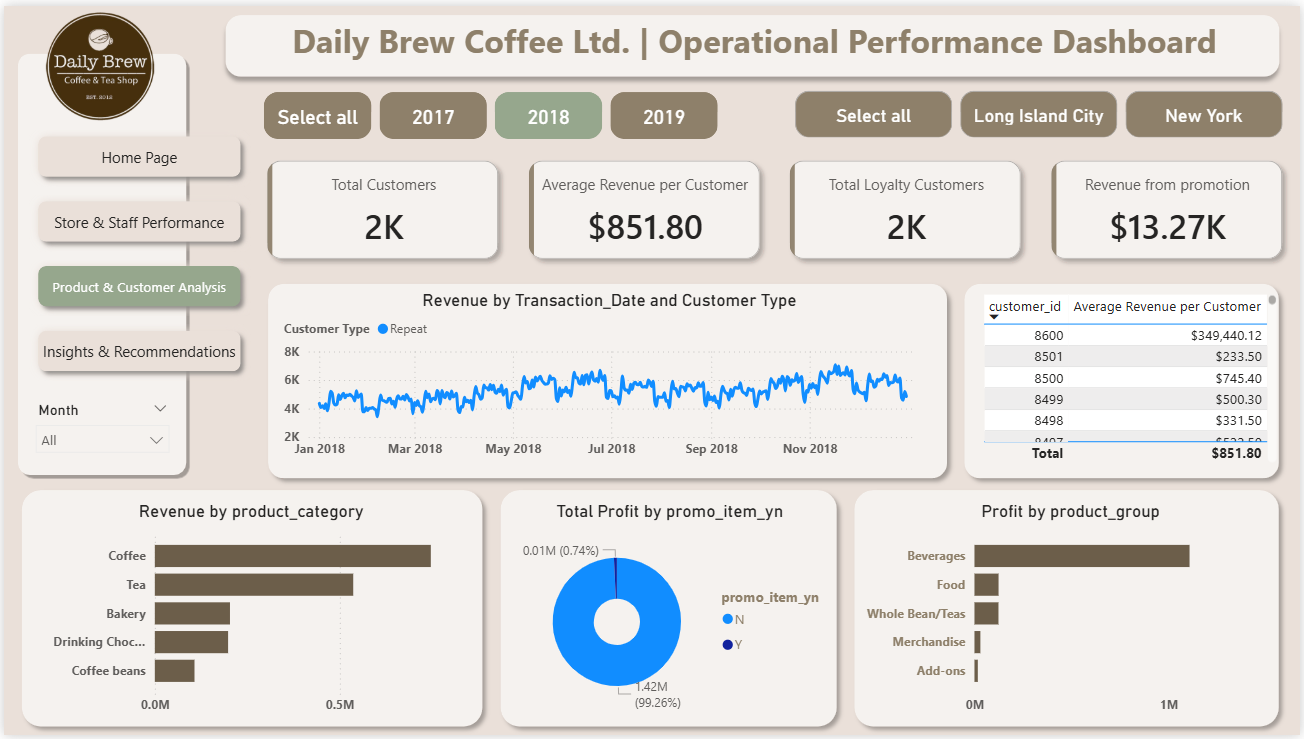

What the dashboard file says about the page in this screenshot:
{"tool":"powerbi","page":{"name":"Product & Customer Analysis ","canvas":[1280,720],"ordinal":2},"visuals":[{"type":"shape","box":[831.4,468.6,437.1,251.4],"z":0},{"type":"shape","box":[8.6,468.6,472.9,251.4],"z":1000},{"type":"shape","box":[251.4,265.7,688.6,210],"z":2000},{"type":"advancedSlicerVisual","fields":{"Values":["Store.store_city"]},"box":[776.2,78.8,492.5,56.2],"z":3000},{"type":"advancedSlicerVisual","fields":{"Values":["Calender.Year_ID"]},"box":[251.2,80,461.2,56.2],"z":4000},{"type":"shape","box":[210,0,1058.8,78.8],"z":5000},{"type":"shape","box":[940,265.7,328.6,210],"z":6000},{"type":"slicer","fields":{"Values":["Calender.Month"]},"box":[20.8,384.6,152.3,71.5],"z":7000},{"type":"textbox","box":[255.7,7.1,971.4,55.7],"z":8000},{"type":"cardVisual","fields":{"Data":["_masure.Total Customers","_masure.Average Revenue per Customer","_masure.Total Loyalty Customers","_masure.Revenue from promotion"]},"box":[242.9,135.7,1037.1,131.4],"z":9000},{"type":"clusteredBarChart","title":" Profit by product_group","fields":{"Y":["_masure.Total Profit"],"Category":["Product.product_group"]},"box":[845.7,488.6,415.7,220],"z":10000},{"type":"barChart","title":"Revenue by product_category","fields":{"Category":["Product.product_category"],"Y":["_masure.Total Revenue"]},"box":[27.1,488.6,434.3,220],"z":11000},{"type":"shape","box":[481.4,468.6,350,251.4],"z":12000},{"type":"donutChart","fields":{"Category":["Sales.promo_item_yn"],"Y":["_masure.Total Profit"]},"box":[497.1,488.6,320,220],"z":13000},{"type":"lineChart","title":" Revenue by Transaction_Date and Customer Type","fields":{"Category":["Calender.Transaction_Date"],"Y":["_masure.Total Revenue"],"Series":["Sales.Customer Type"]},"box":[271.4,280,652.9,175.7],"z":14000},{"type":"tableEx","fields":{"Values":["Sales.customer_id","_masure.Average Revenue per Customer"]},"box":[961.4,280,300,175.7],"z":15000},{"type":"shape","box":[8.4,42.2,188.2,427.1],"z":16000},{"type":"pageNavigator","box":[19.3,117,218.4,263],"z":17000},{"type":"slicer","fields":{"Values":["Calender.Month"]},"box":[30.8,394.6,152.3,71.5],"z":18000},{"type":"image","box":[26,0,152.9,121.2],"z":19000}]}

Visuals, with their boxes in screenshot pixels (x1, y1, x2, y2), scaled from the page's 1280x720 canvas onto the 1304x739 screenshot:
shape: [847, 481, 1292, 738]
shape: [9, 481, 491, 738]
shape: [256, 273, 958, 488]
advancedSlicerVisual - Store.store_city: [791, 81, 1292, 139]
advancedSlicerVisual - Calender.Year_ID: [256, 82, 726, 140]
shape: [214, 0, 1293, 81]
shape: [958, 273, 1292, 488]
slicer - Calender.Month: [21, 395, 176, 468]
textbox: [260, 7, 1250, 64]
cardVisual - _masure.Total Customers x _masure.Average Revenue per Customer: [247, 139, 1303, 274]
" Profit by product_group" clusteredBarChart: [862, 501, 1285, 727]
"Revenue by product_category" barChart: [28, 501, 470, 727]
shape: [490, 481, 847, 738]
donutChart - Sales.promo_item_yn x _masure.Total Profit: [506, 501, 832, 727]
" Revenue by Transaction_Date and Customer Type" lineChart: [276, 287, 942, 468]
tableEx - Sales.customer_id x _masure.Average Revenue per Customer: [979, 287, 1285, 468]
shape: [9, 43, 200, 482]
pageNavigator: [20, 120, 242, 390]
slicer - Calender.Month: [31, 405, 187, 478]
image: [26, 0, 182, 124]
